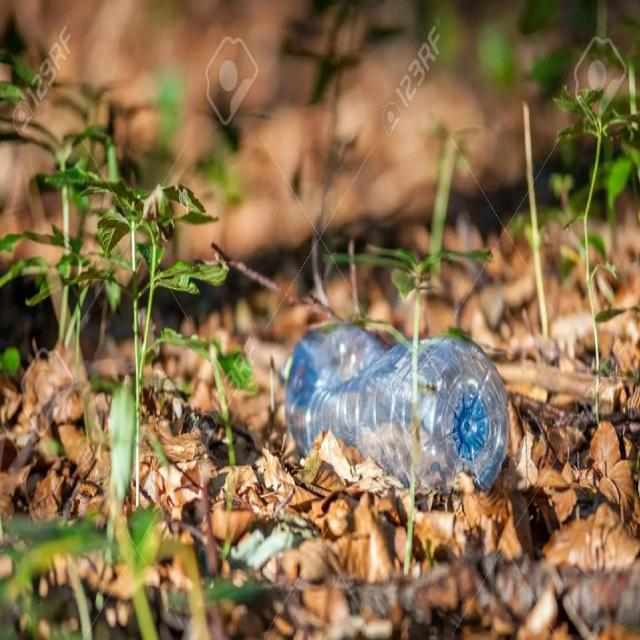bottle: (268, 328, 524, 509)
